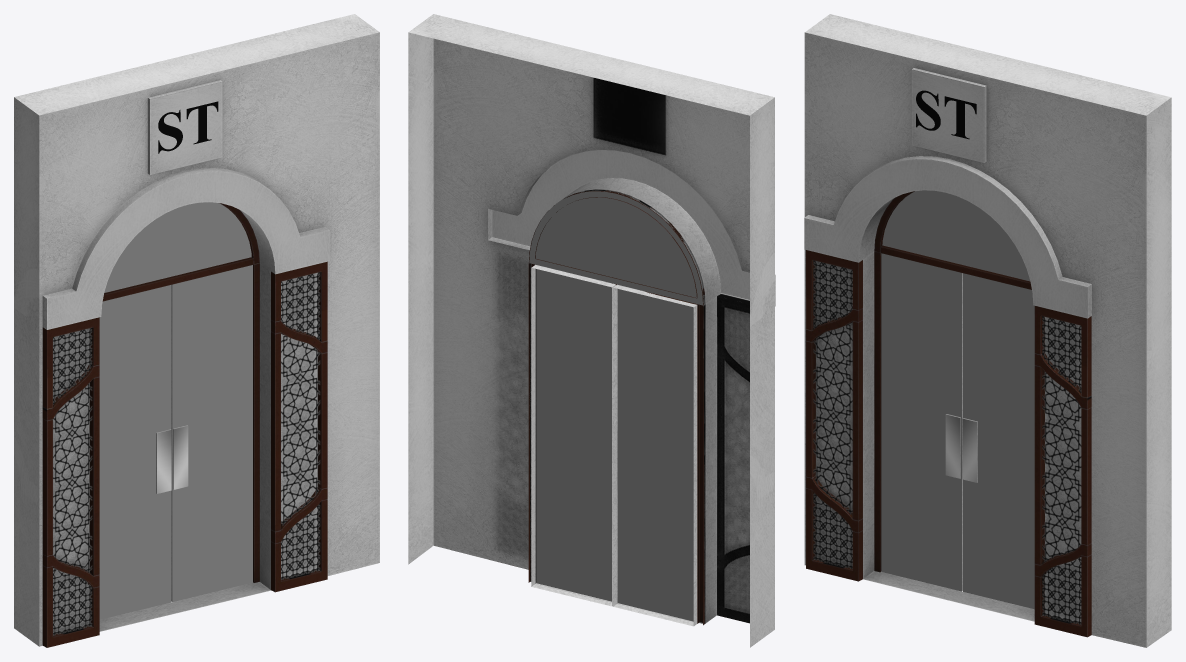
The model's file is door_5.glb.
3 renders of one model, left to right at view 1: azimuth 30°, elevation 25°; view 2: azimuth 150°, elevation 25°; view 3: azimuth 330°, elevation 25°, orthographic.
Parts seen in each view (by area): view 1: door_5, door_5_img; view 2: door_5; view 3: door_5, door_5_img.
Part boxes in pixels (left/top/right/bottom): door_5: left=14, top=14, right=379, bottom=647; door_5_img: left=158, top=101, right=218, bottom=153; door_5: left=408, top=14, right=775, bottom=647; door_5: left=804, top=14, right=1171, bottom=647; door_5_img: left=916, top=90, right=976, bottom=139.
Bounding box in the file's own units: 2.35 × 3.5 × 0.35.
Materials: 4 (3 with a texture image).
